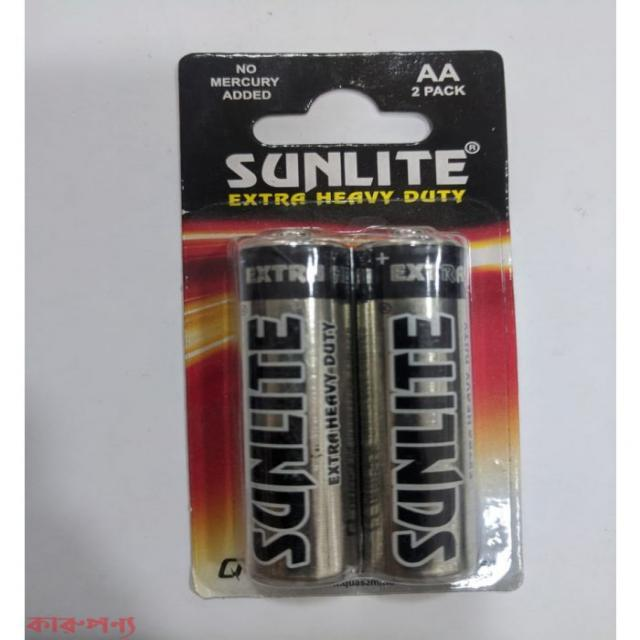hazardous waste: (228, 224, 358, 591), (356, 224, 480, 596)
